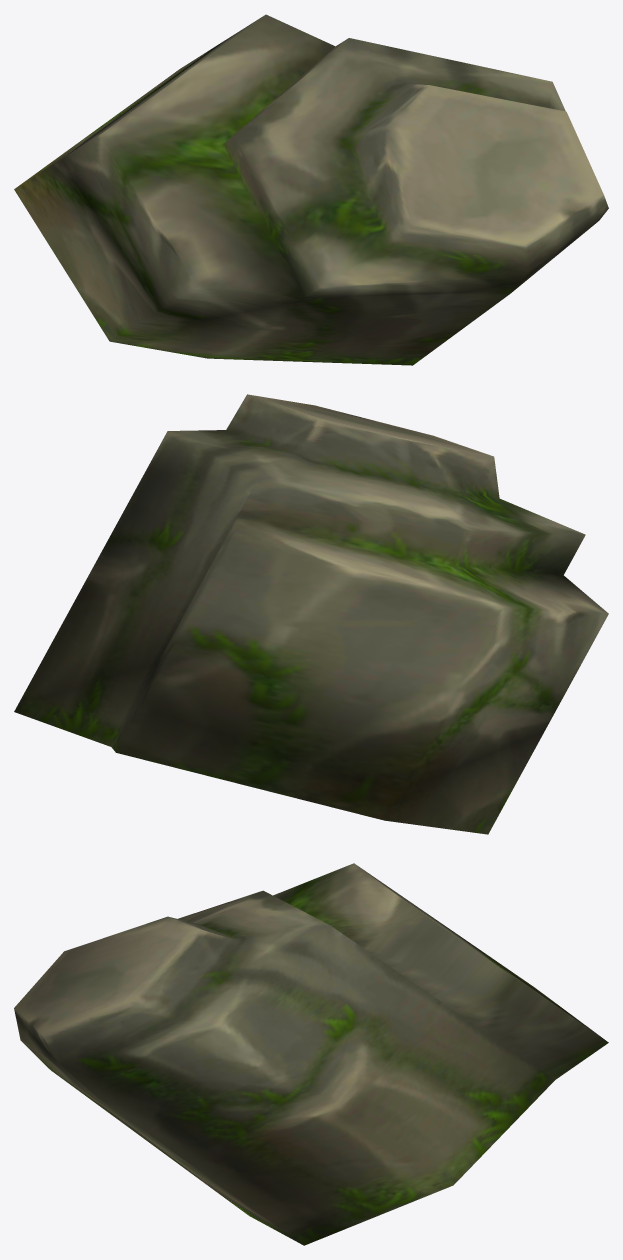
The model's file is RockFormation_4_5 (29).fbx.
3 views of the same model, one above another, from view 1: azimuth 30°, elevation 25°; view 2: azimuth 150°, elevation 25°; view 3: azimuth 270°, elevation 25° (orthographic). The views are drawn at different scales.
Visible parts, largest first — view 1: RockFormation_4_5 (29); view 2: RockFormation_4_5 (29); view 3: RockFormation_4_5 (29).
Boxes of the visible parts, box(x1,y1,x2,y2) form: RockFormation_4_5 (29): box(14, 14, 608, 365); RockFormation_4_5 (29): box(14, 394, 608, 834); RockFormation_4_5 (29): box(14, 863, 608, 1245).
Bounding box in the file's own units: 710 × 522 × 997.
